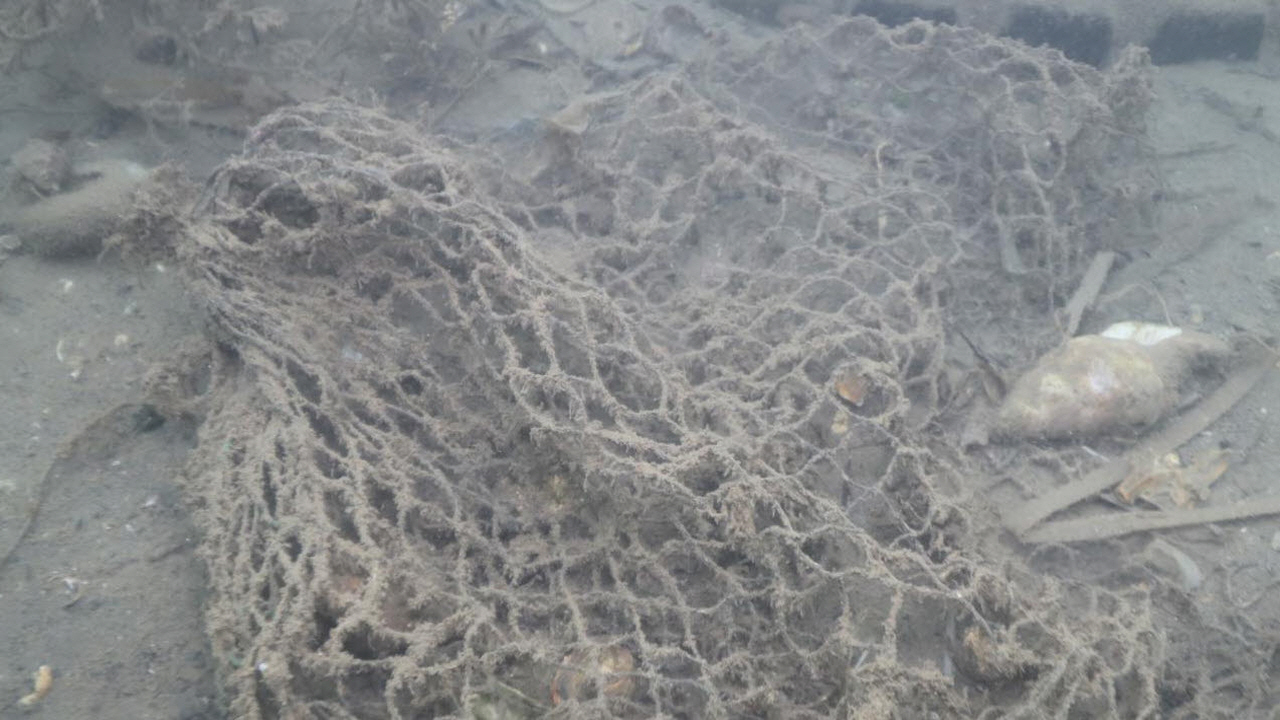fish net: (175, 15, 1280, 720)
